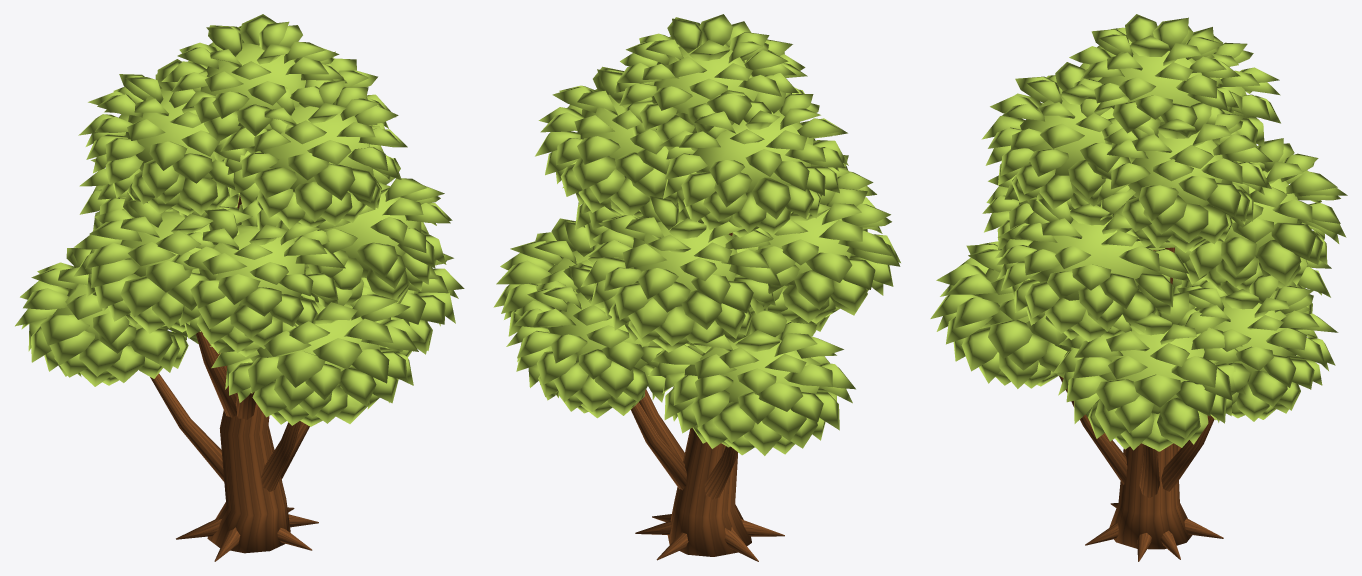
The model's file is VerdantOak_LOD0.glb.
3 views of the same model, side by side, from view 1: azimuth 30°, elevation 25°; view 2: azimuth 150°, elevation 25°; view 3: azimuth 270°, elevation 25° (orthographic).
Parts seen in each view (by area): view 1: SM_VerdantOak_Foliage_LOD0, SM_VerdantOak_Bark_LOD0; view 2: SM_VerdantOak_Foliage_LOD0, SM_VerdantOak_Bark_LOD0; view 3: SM_VerdantOak_Foliage_LOD0, SM_VerdantOak_Bark_LOD0.
Part boxes in pixels (left/top/right/bottom): SM_VerdantOak_Foliage_LOD0: left=15, top=14, right=464, bottom=426; SM_VerdantOak_Bark_LOD0: left=150, top=195, right=318, bottom=561; SM_VerdantOak_Foliage_LOD0: left=493, top=14, right=900, bottom=455; SM_VerdantOak_Bark_LOD0: left=631, top=232, right=784, bottom=561; SM_VerdantOak_Foliage_LOD0: left=930, top=14, right=1347, bottom=451; SM_VerdantOak_Bark_LOD0: left=1059, top=247, right=1223, bottom=561.
Size of the model in its own units: 6.13 by 7.83 by 5.85.
2 materials, 1 textured.
